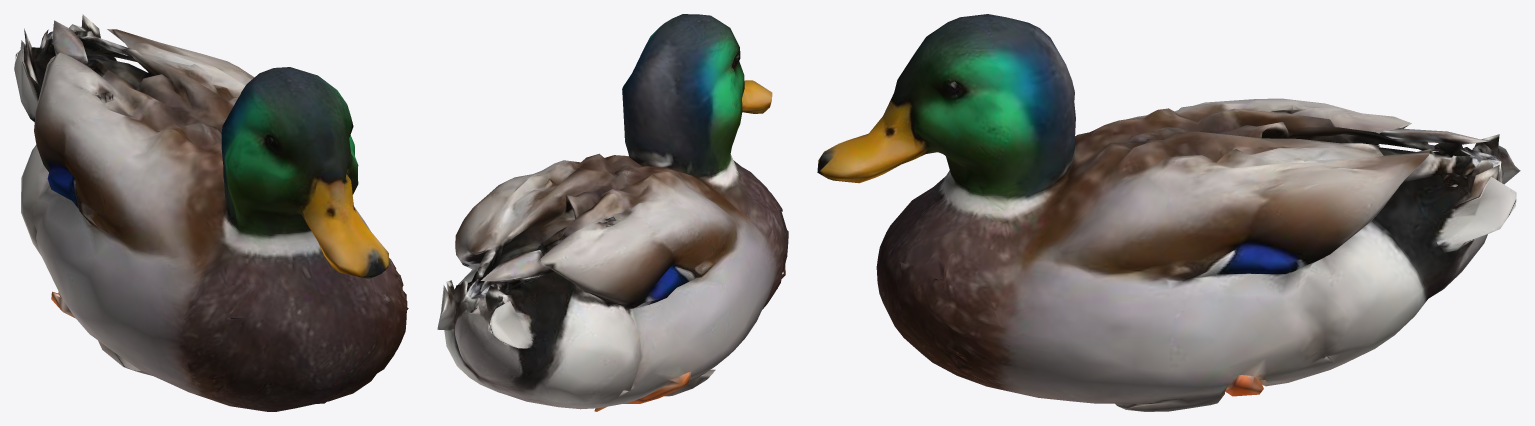
Rendered from ente.glb.
The picture shows the model from 3 angles, left to right: view 1: azimuth 30°, elevation 25°; view 2: azimuth 150°, elevation 25°; view 3: azimuth 270°, elevation 25°; orthographic projection. The views are drawn at different scales.
Visible parts, largest first — view 1: tripo_node_5a7359bb-d528-4243-9e48-0e30da7a9215; view 2: tripo_node_5a7359bb-d528-4243-9e48-0e30da7a9215; view 3: tripo_node_5a7359bb-d528-4243-9e48-0e30da7a9215.
Part boxes in pixels (box(x1,y1,x2,y2)): tripo_node_5a7359bb-d528-4243-9e48-0e30da7a9215: box(14, 14, 408, 411); tripo_node_5a7359bb-d528-4243-9e48-0e30da7a9215: box(437, 14, 788, 411); tripo_node_5a7359bb-d528-4243-9e48-0e30da7a9215: box(817, 14, 1520, 411).
Size of the model in its own units: 0.4483 by 0.5759 by 1.
1 material, 1 textured.
